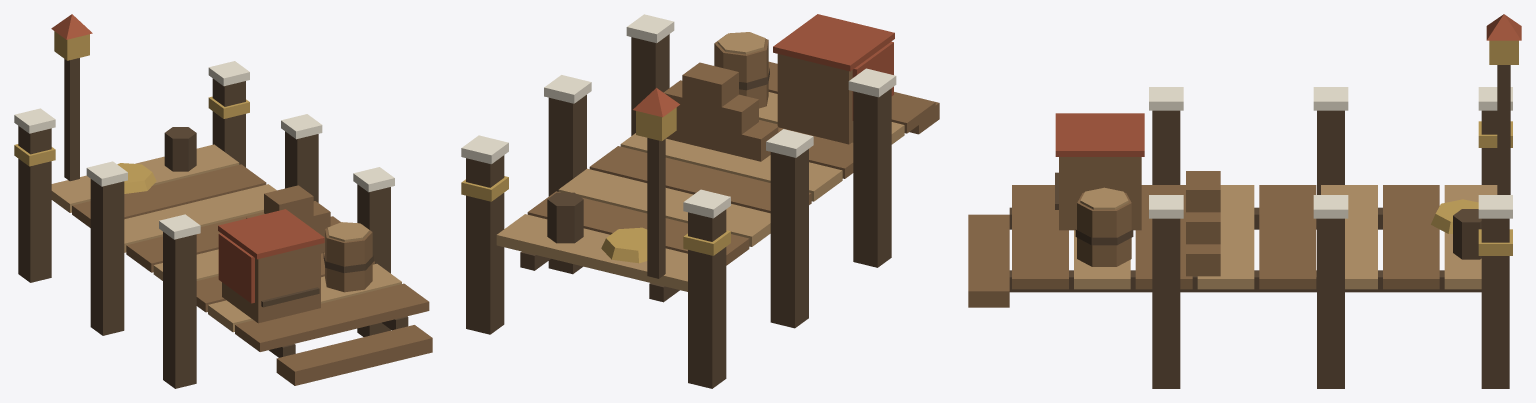
Rendered from landing.glb.
3 renders of one model, left to right at view 1: azimuth 30°, elevation 25°; view 2: azimuth 150°, elevation 25°; view 3: azimuth 270°, elevation 25°, orthographic. The views are drawn at different scales.
Parts seen in each view (by area): view 1: landing; view 2: landing; view 3: landing.
Part boxes in pixels (<box>): landing: <box>14,14,432,388</box>; landing: <box>461,14,939,388</box>; landing: <box>968,14,1521,388</box>.
Bounding box in the file's own units: 3.52 × 3.8 × 6.71.
1 material, 1 textured.
